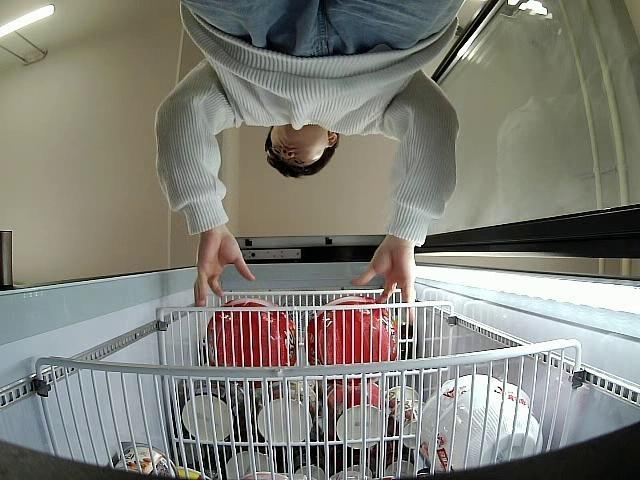10_wangTtukkeong: (311, 298, 400, 386)
